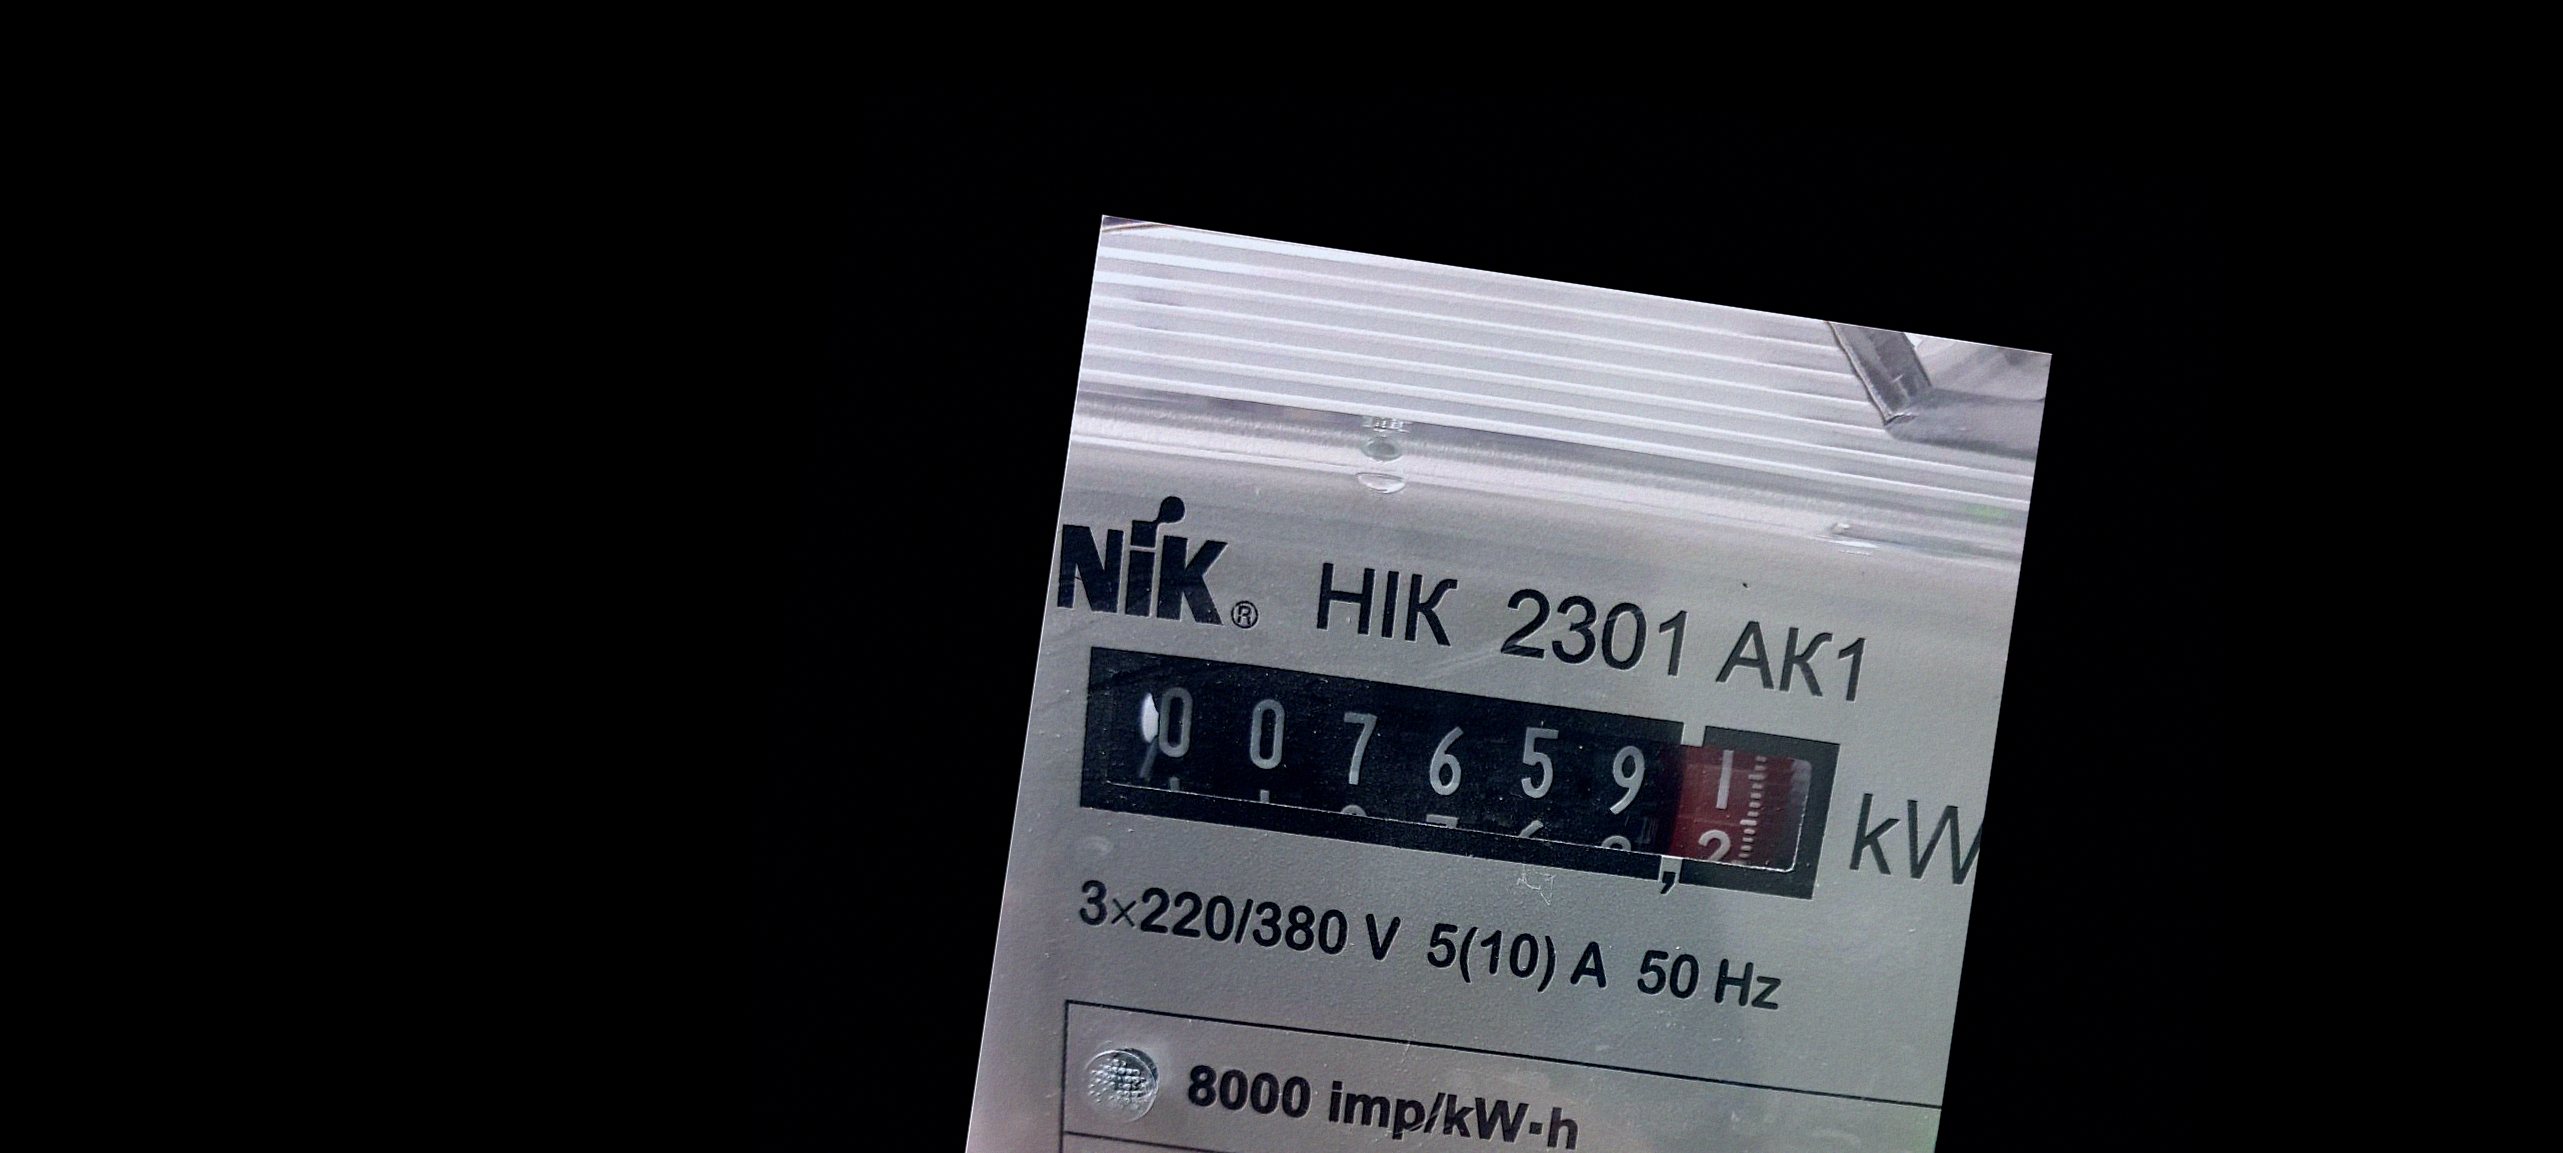0: (1232, 687, 1301, 780), (1144, 675, 1208, 772)
1: (1705, 742, 1751, 821)
5: (1510, 720, 1568, 806)
6: (1416, 715, 1479, 805)
7: (1331, 703, 1383, 795)
9: (1600, 736, 1656, 829)
screen: (1048, 612, 1863, 939)
